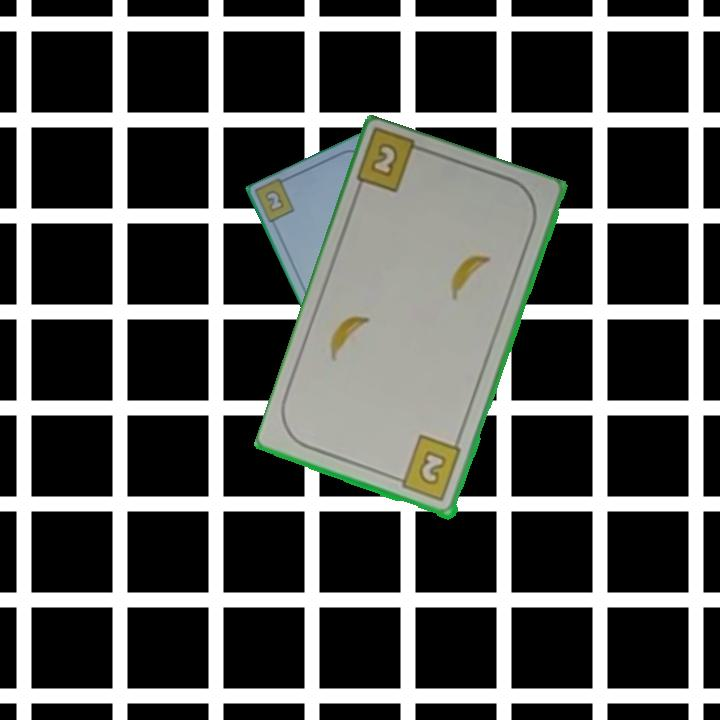2b: (390, 432, 464, 505), (367, 139, 402, 181), (261, 186, 288, 215)
